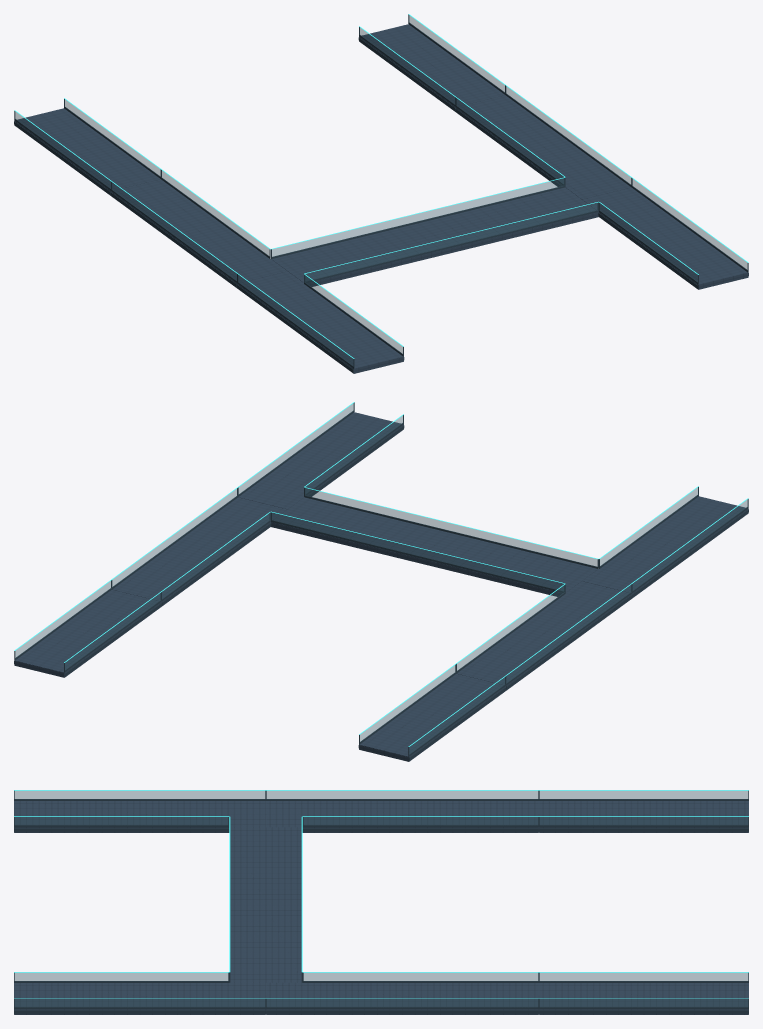
The model's file is v02-detailed-01-04.glb.
The picture shows the model from 3 angles, top to bottom: view 1: azimuth 30°, elevation 25°; view 2: azimuth 150°, elevation 25°; view 3: azimuth 270°, elevation 25°; orthographic projection. The views are drawn at different scales.
Parts seen in each view (by area): view 1: v02-detailed-01-04; view 2: v02-detailed-01-04; view 3: v02-detailed-01-04.
Part boxes in pixels (x1,y1,x2,y2): v02-detailed-01-04: [14, 14, 748, 373]; v02-detailed-01-04: [14, 402, 748, 761]; v02-detailed-01-04: [14, 790, 748, 1014].
Size of the model in its own units: 47.1 by 1.77 by 70.
5 materials, 1 textured.
